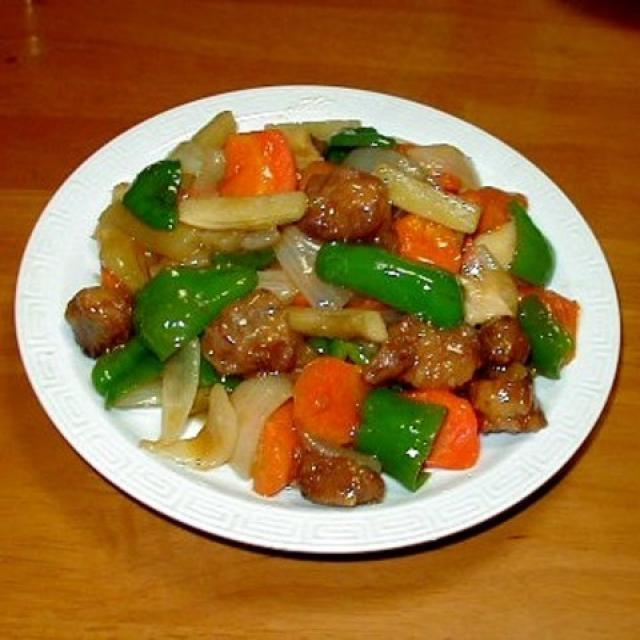猪肉菜式: (4, 72, 632, 566)
